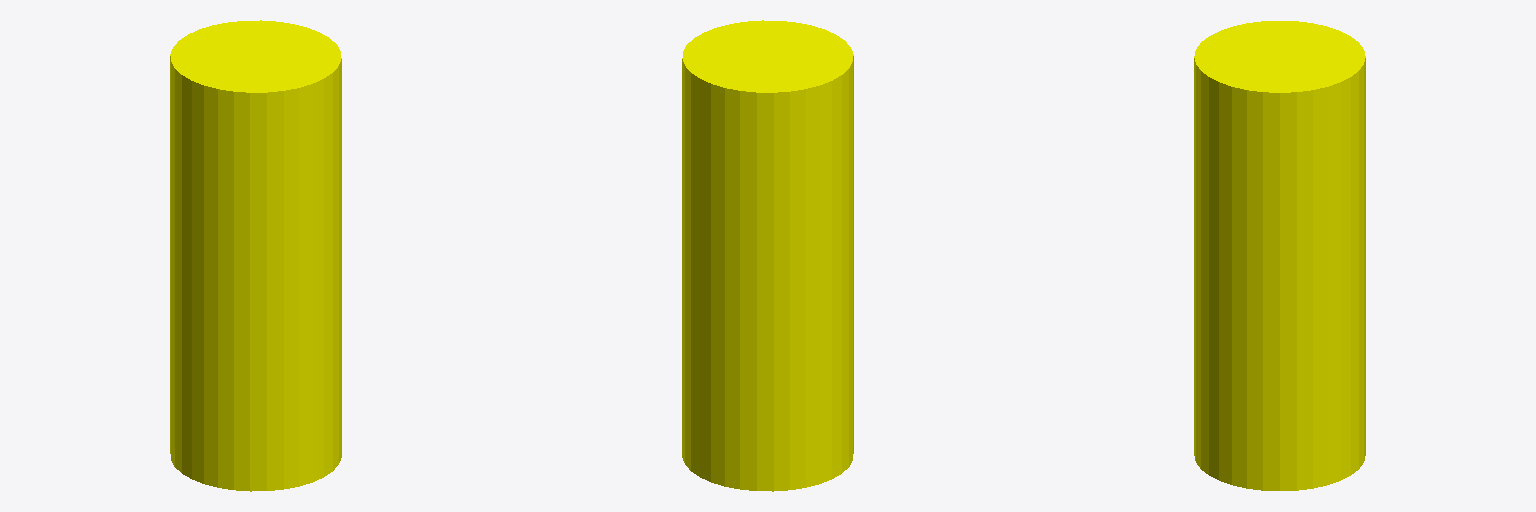
URDF robot description (rod.urdf):
<?xml version="0.0" ?>
<robot name="rod.urdf">
<!-- version used for peg insertion -->

<link name="baseLink">
	<visual>
    <origin xyz="0 0 0" rpy="0 0 0"/>
    <geometry>
        <!-- this was the visual used for experiments...but it doesn't match collision, so be careful -->
<!--      <cylinder radius="0.0125" length="0.1"/>-->
      <!-- <cylinder radius="0.0185" length="0.1"/> -->
      <cylinder radius="0.0195" length="0.1"/>
    </geometry>
    <material name="yellow">
        <color rgba="1 1 0 1"/>
      </material>
  </visual>
  <collision>
    <origin xyz="0.0 0 0" rpy="0 0 0"/>
    <geometry>
      <!-- tolerance values based on hole being 4cm diameter -->
      <!-- tolerance: 1.5cm -->
<!--      <cylinder radius="0.0125" length="0.07"/>-->
      <!-- tolerance:: .25cm -->
<!--      <cylinder radius="0.01875" length="0.1"/>-->
      <!-- tolerance: .5cm -->
<!--      <cylinder radius="0.0175" length="0.1"/>-->
      <!-- tolerance: .3cm -->
      <!-- <cylinder radius="0.0185" length="0.1"/> -->
      <!-- tolerance: .1cm -->
      <cylinder radius="0.0195" length="0.1"/>
    </geometry>
  </collision>
  <inertial>
    <mass value="0.1"/>
    <origin rpy="0 0 0" xyz="0.0 0.0 0.0"/>
    <inertia ixx="0.000526462289415" ixy="0.0" ixz="0.0" iyy="0.000526462289415" iyz="0.0" izz="0.000568125"/>
    <!-- <inertia ixx="1" ixy="0.0" ixz="0.0" iyy="1" iyz="0.0" izz="1"/> -->
  </inertial>
    <contact>
<!--      <lateral_friction value=".8"/>-->
      <lateral_friction value="1.0"/>
      <inertia_scaling value="3.0"/>
    </contact>
</link>

</robot>

--- What the picture shows (computed from the rendered views, not written in the file) ---
The picture shows the robot from 3 angles, left to right: view 1: azimuth 30°, elevation 25°; view 2: azimuth 150°, elevation 25°; view 3: azimuth 270°, elevation 25°; orthographic projection.
Model rod.urdf with 1 links and 0 joints (none), rooted at baseLink, posed all joints at 0.
Visible links, largest first — view 1: baseLink; view 2: baseLink; view 3: baseLink.
Link boxes in pixels (left/top/right/bottom): baseLink: left=170, top=20, right=341, bottom=491; baseLink: left=682, top=20, right=853, bottom=491; baseLink: left=1194, top=21, right=1365, bottom=490.
Bounding box of the posed robot: 0.039 × 0.039 × 0.1 m (x, y, z).
Geometry: primitives only (box / cylinder / sphere), no mesh files.
